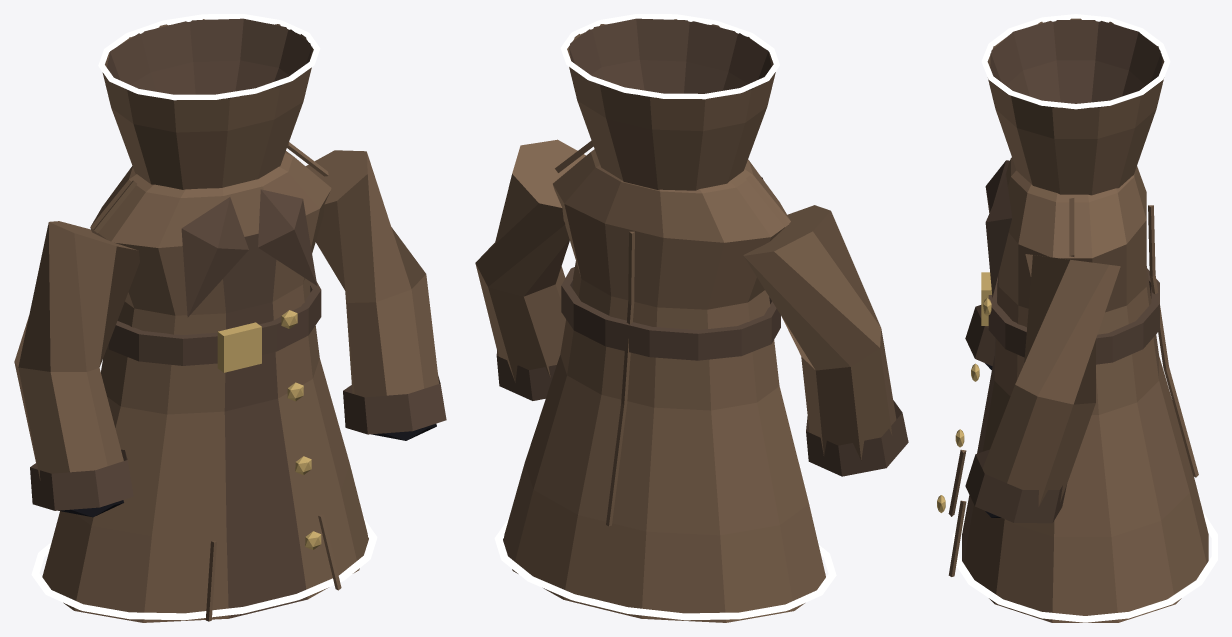
Rendered from relic-coat.glb.
The picture shows the model from 3 angles, left to right: view 1: azimuth 30°, elevation 25°; view 2: azimuth 150°, elevation 25°; view 3: azimuth 270°, elevation 25°; orthographic projection. The views are drawn at different scales.
Visible parts, largest first — view 1: coat_body; view 2: coat_body; view 3: coat_body.
Boxes of the visible parts, x1,y1,x2,y2 form: coat_body: (14, 14, 446, 622); coat_body: (475, 14, 908, 622); coat_body: (937, 14, 1217, 622).
Bounding box in the file's own units: 0.529 × 0.6405 × 0.3297.
